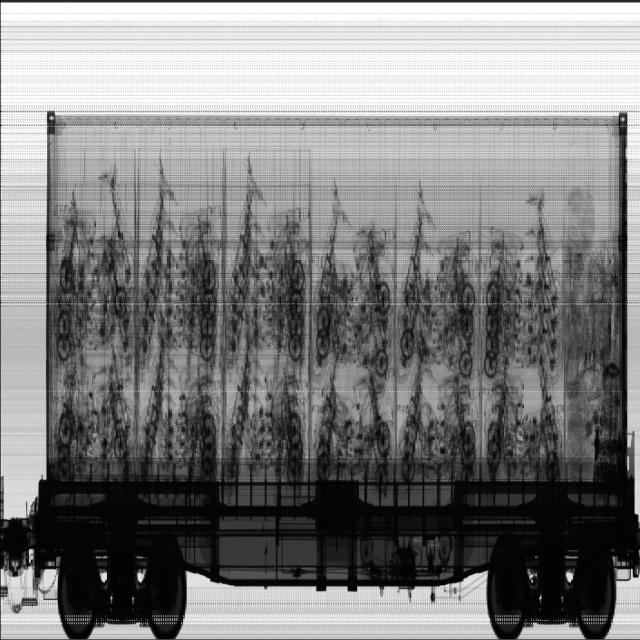bicycle: (51, 152, 566, 492)
